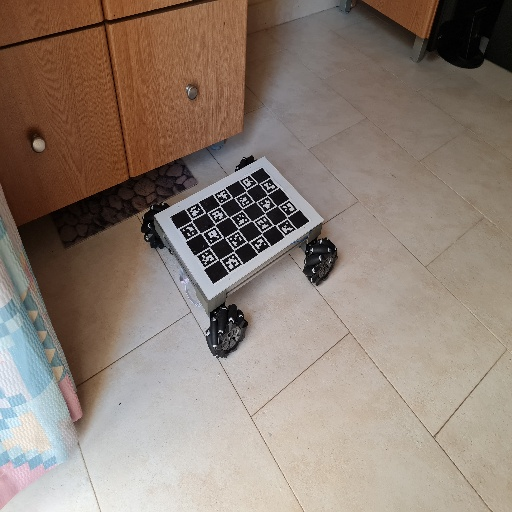Omniwheel: (140, 155, 340, 359)
